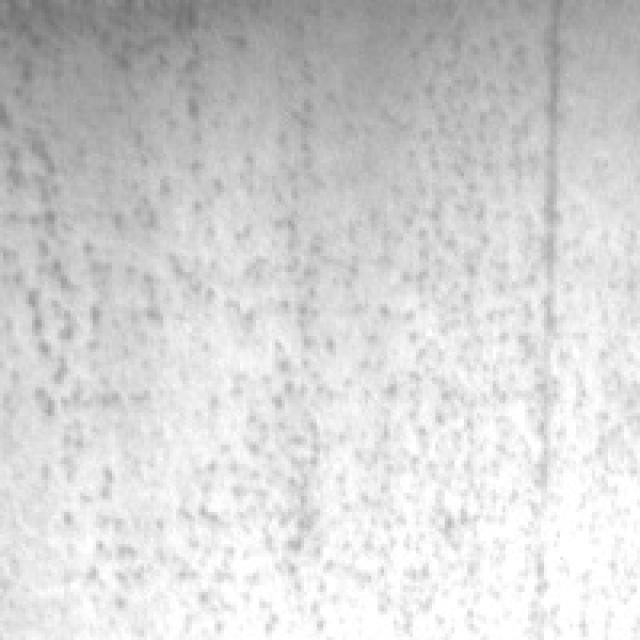pitted_surface: (3, 10, 614, 627)
